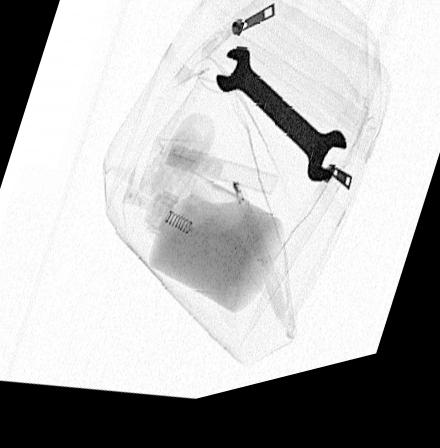Wrench: (214, 54, 347, 199)
